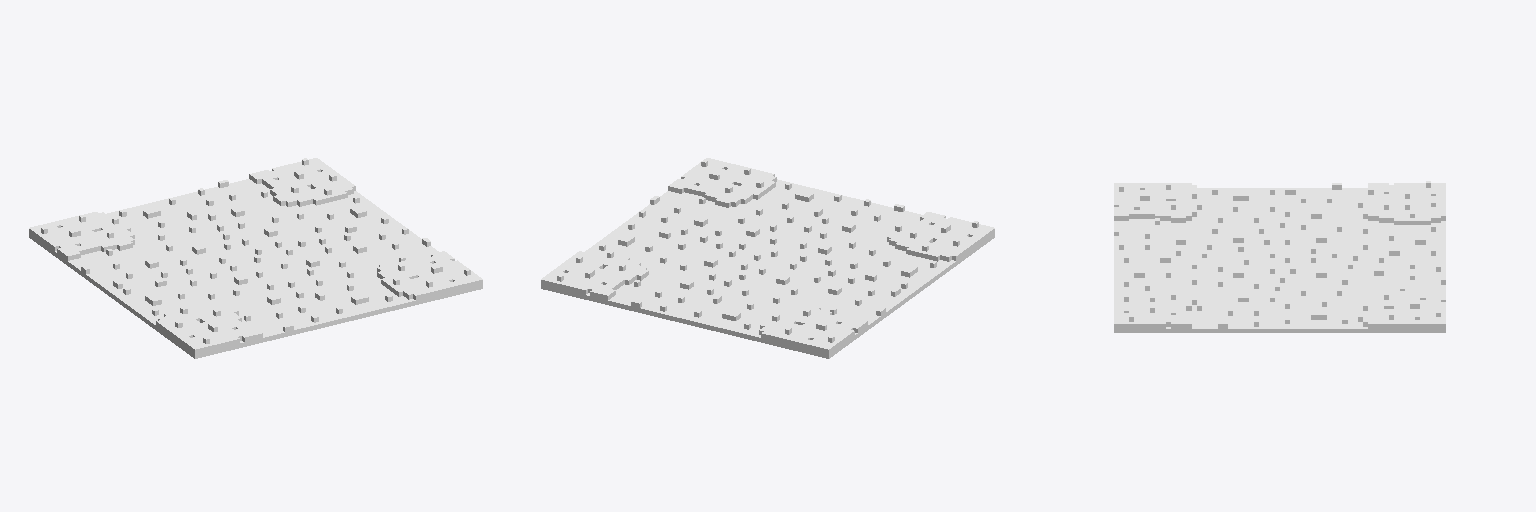
File: EarthenPath4Fork_1.obj
The picture shows the model from 3 angles: view 1: azimuth 30°, elevation 25°; view 2: azimuth 150°, elevation 25°; view 3: azimuth 270°, elevation 25°; orthographic projection.
Parts seen in each view (by area): view 1: EarthenPath4Fork_1.001; view 2: EarthenPath4Fork_1.001; view 3: EarthenPath4Fork_1.001.
Boxes of the visible parts, x1,y1,x2,y2 form: EarthenPath4Fork_1.001: [29, 158, 482, 358]; EarthenPath4Fork_1.001: [541, 158, 994, 358]; EarthenPath4Fork_1.001: [1114, 181, 1445, 332].
Bounding box in the file's own units: 1 × 0.0469 × 1.